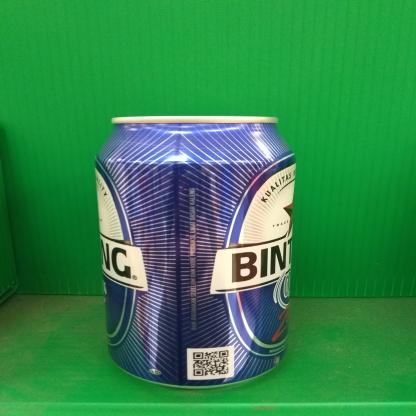mouse: (89, 107, 300, 391)
